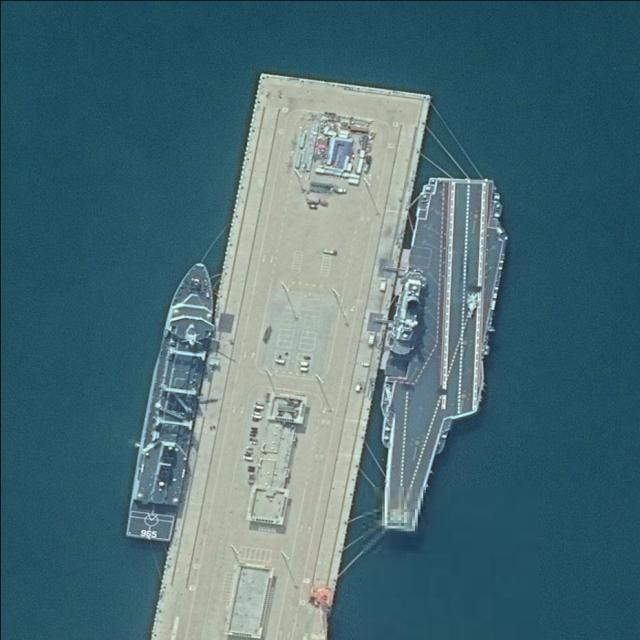Aircraft Carrier: (349, 164, 522, 544)
Other Warship: (123, 255, 225, 544)
